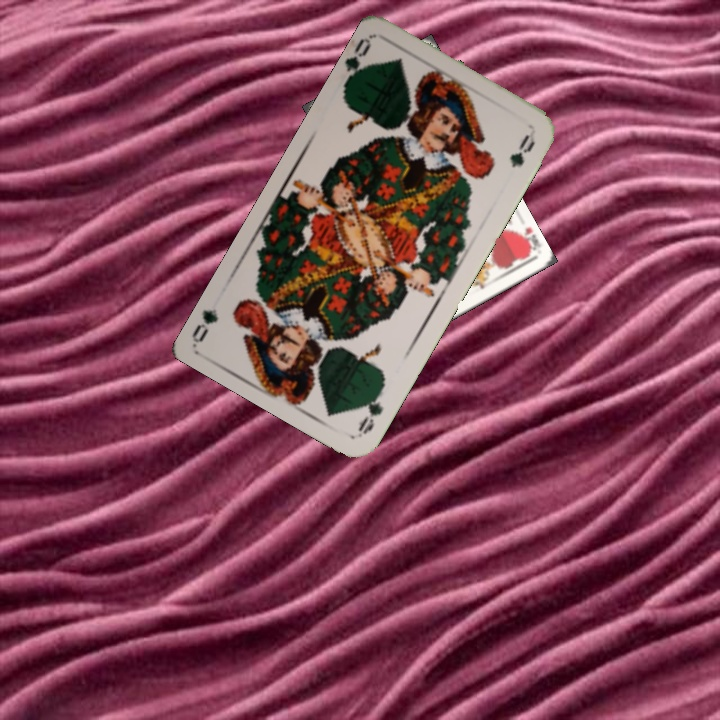GO: (339, 34, 375, 91), (353, 381, 388, 437)
HK: (513, 223, 544, 257)
